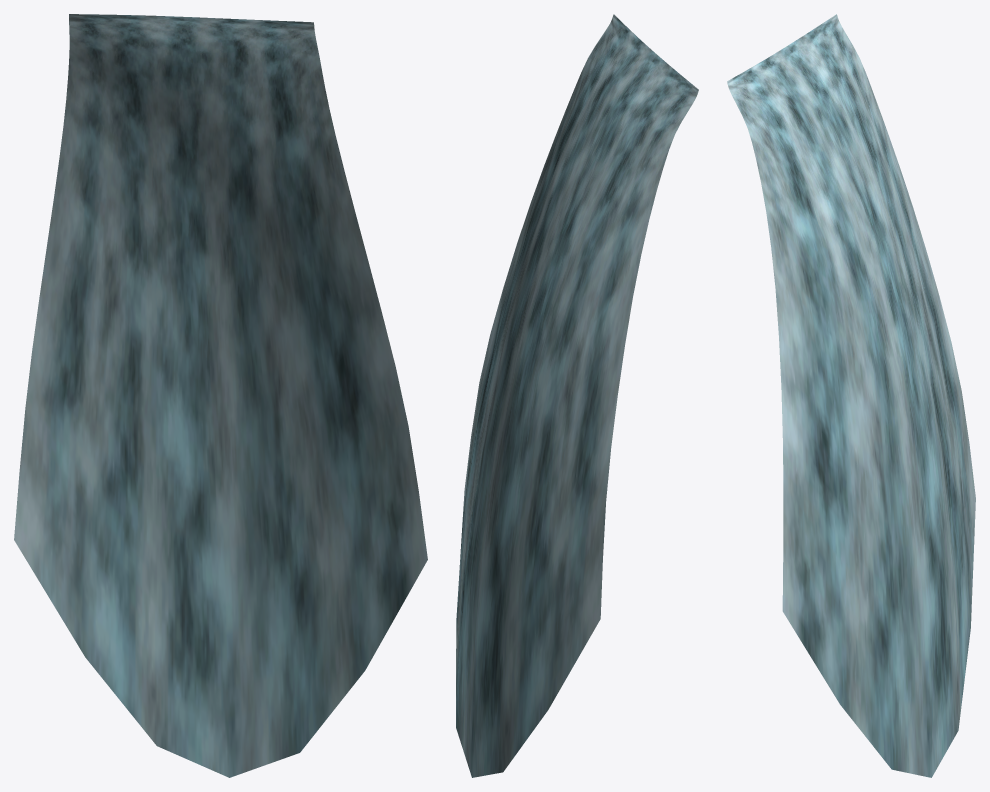
File: INST_MIRK_WATERFALL_WATERFALLOUTNEW01.fbx
3 renders of one model, left to right at view 1: azimuth 30°, elevation 25°; view 2: azimuth 150°, elevation 25°; view 3: azimuth 270°, elevation 25°, orthographic. The views are drawn at different scales.
Parts seen in each view (by area): view 1: INST_MIRK_WATERFALL_WATERFALLOUTNEW01; view 2: INST_MIRK_WATERFALL_WATERFALLOUTNEW01; view 3: INST_MIRK_WATERFALL_WATERFALLOUTNEW01.
Boxes of the visible parts, x1=… form: INST_MIRK_WATERFALL_WATERFALLOUTNEW01: x1=14, y1=14, x2=427, y2=777; INST_MIRK_WATERFALL_WATERFALLOUTNEW01: x1=456, y1=14, x2=698, y2=777; INST_MIRK_WATERFALL_WATERFALLOUTNEW01: x1=727, y1=14, x2=975, y2=777.
Bounding box in the file's own units: 50630 × 128451 × 42672.
1 material, 1 textured.
